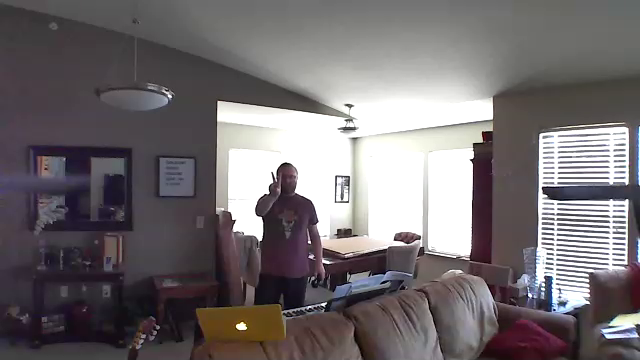peace: (268, 168, 283, 202)
